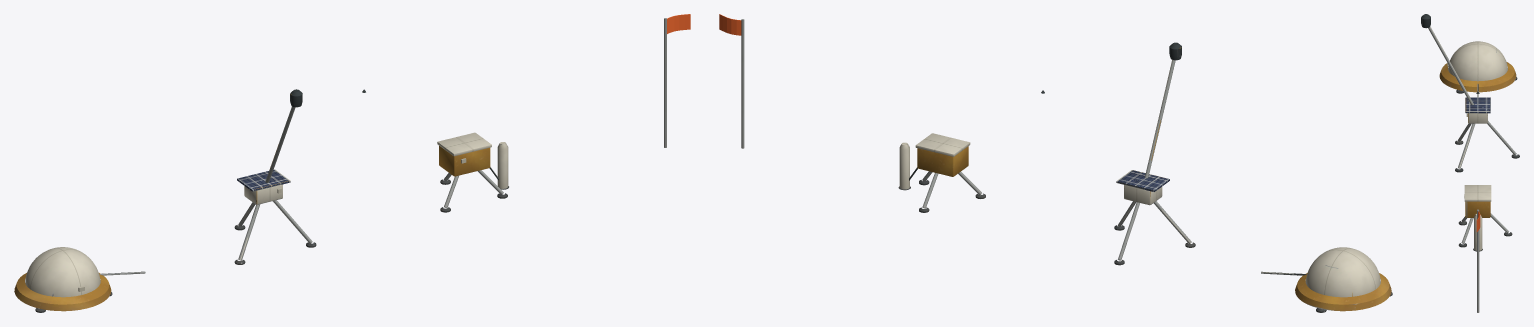
Rendered from survey-kit.glb.
The picture shows the model from 3 angles, left to right: view 1: azimuth 30°, elevation 25°; view 2: azimuth 150°, elevation 25°; view 3: azimuth 270°, elevation 25°; orthographic projection. The views are drawn at different scales.
Visible parts, largest first — view 1: seismometer, heat_probe, magnetometer, stake; view 2: seismometer, heat_probe, magnetometer, stake; view 3: seismometer, magnetometer, heat_probe, stake.
Boxes of the visible parts, x1,y1,x2,y2 form: seismometer: (14, 247, 145, 312); heat_probe: (437, 132, 508, 212); magnetometer: (234, 89, 316, 264); stake: (362, 14, 690, 147); seismometer: (1261, 247, 1392, 312); heat_probe: (898, 133, 985, 212); magnetometer: (1114, 42, 1195, 265); stake: (719, 14, 1044, 148); seismometer: (1439, 41, 1517, 97); magnetometer: (1421, 14, 1519, 172); heat_probe: (1458, 185, 1512, 251); stake: (1476, 91, 1480, 312).
Size of the model in its own units: 7.33 by 1.87 by 1.18.
Materials: 3 (1 with a texture image).
